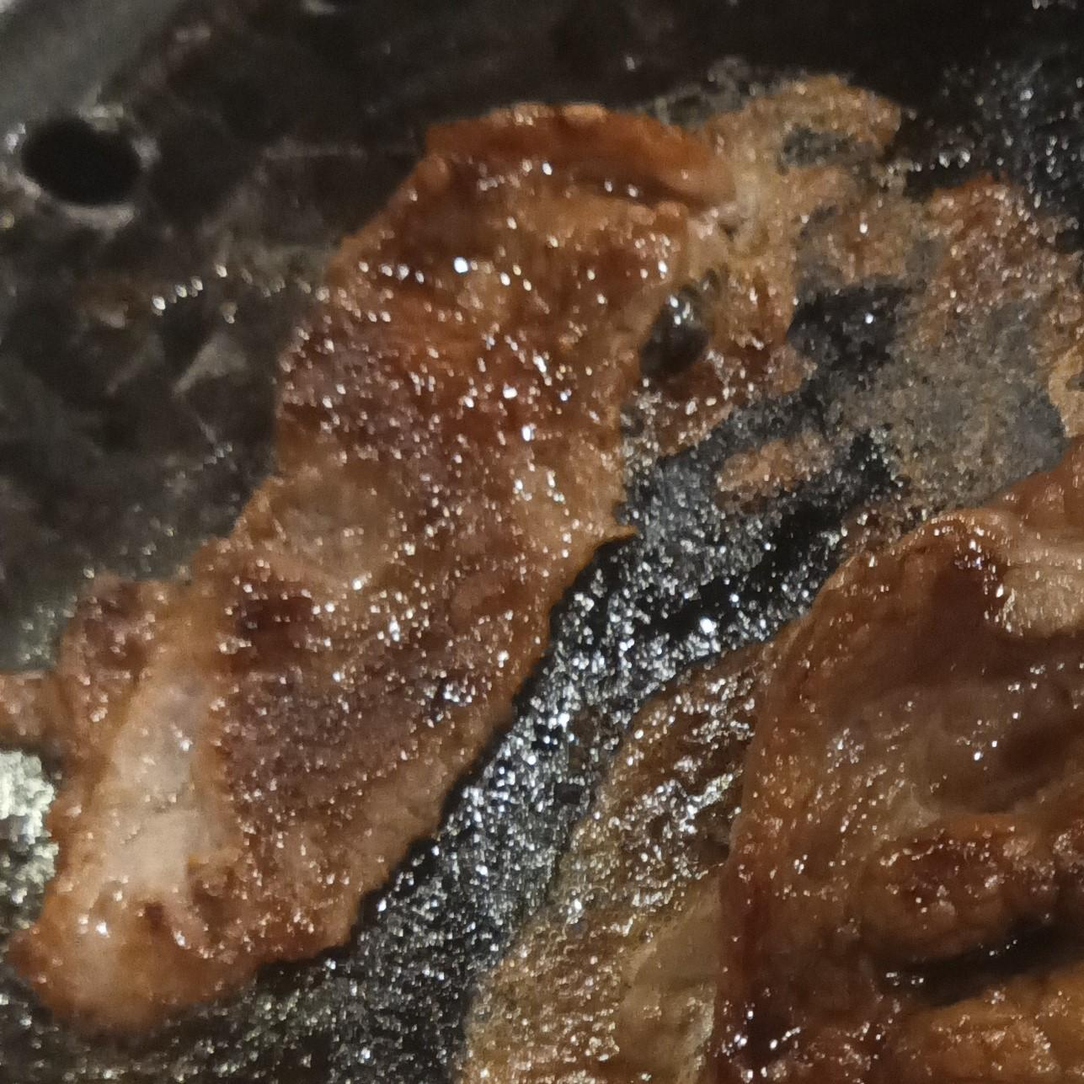Overcooked: (0, 104, 744, 1044), (714, 445, 1083, 1083)
